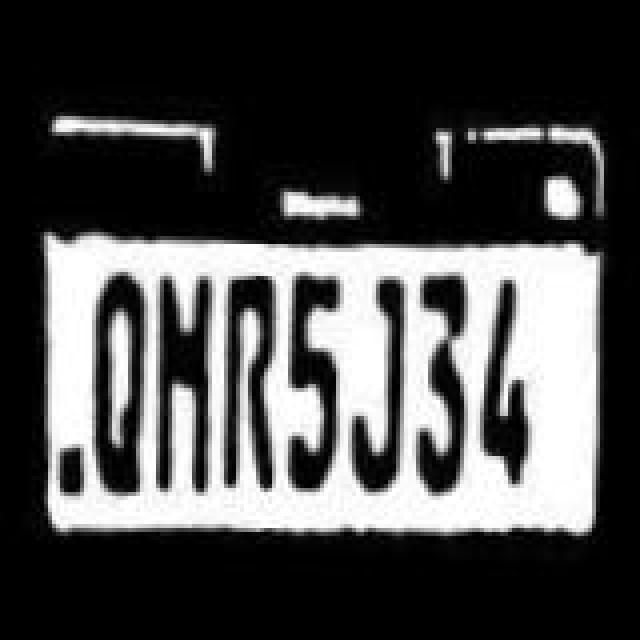3: (414, 266, 474, 506)
4: (476, 264, 540, 488)
5: (280, 270, 344, 498)
J: (350, 264, 410, 500)
M: (144, 268, 216, 496)
Q: (84, 254, 148, 502)
R: (216, 272, 280, 488)
